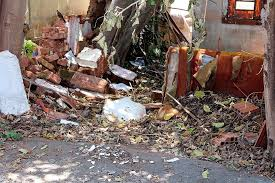rubble: (1, 14, 158, 122)
